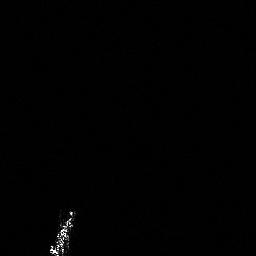ship: (46, 207, 77, 256)
